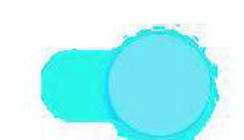Switch: (1, 1, 243, 139)
